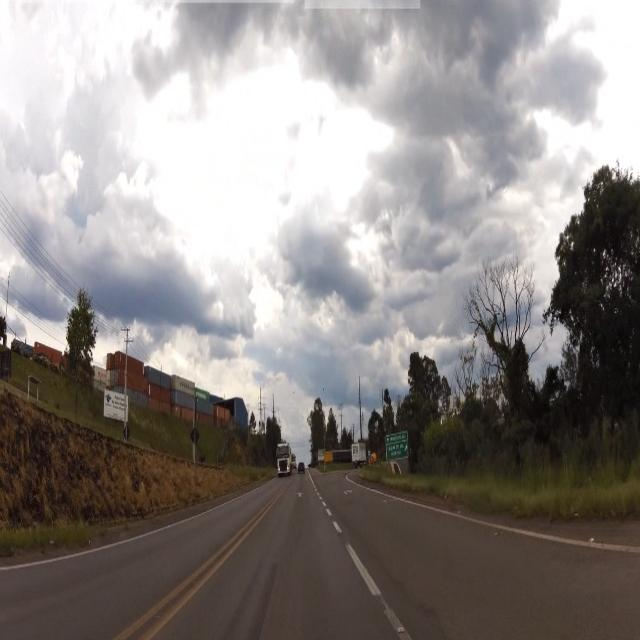I-4: (388, 432, 407, 461)
